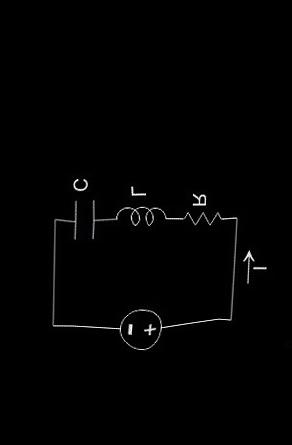Battery: (109, 298, 173, 363)
